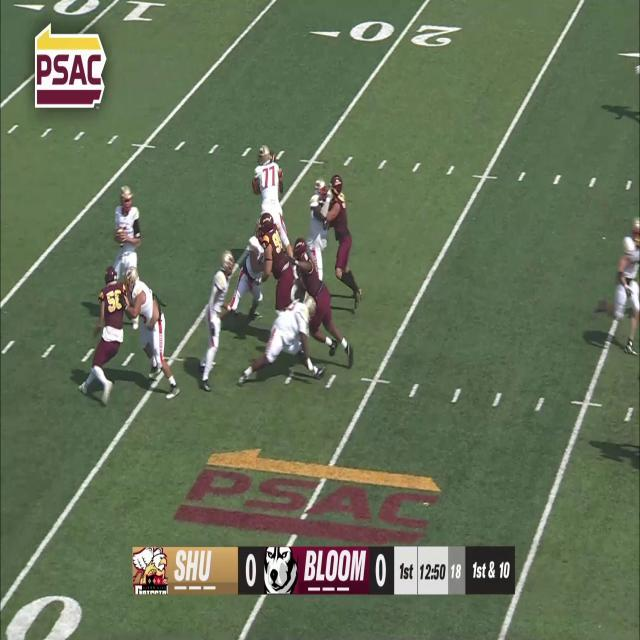football: (114, 224, 124, 246)
